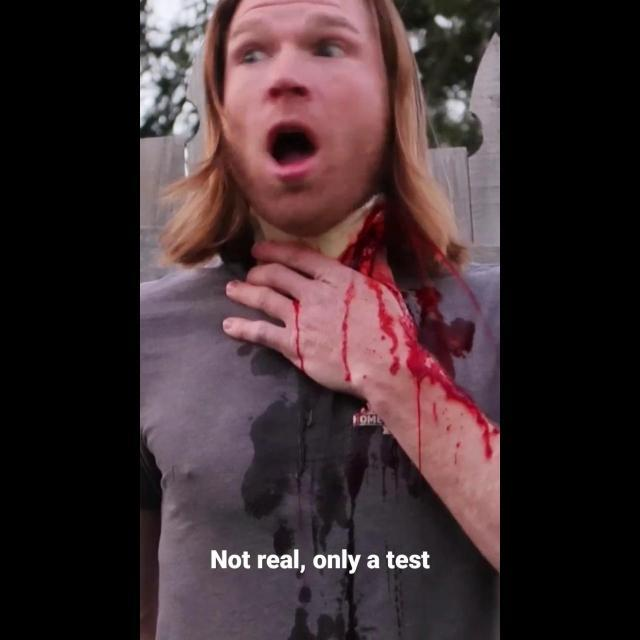blood: (380, 303, 500, 462), (402, 283, 474, 379), (340, 202, 399, 284), (342, 282, 356, 383), (292, 300, 305, 373)
